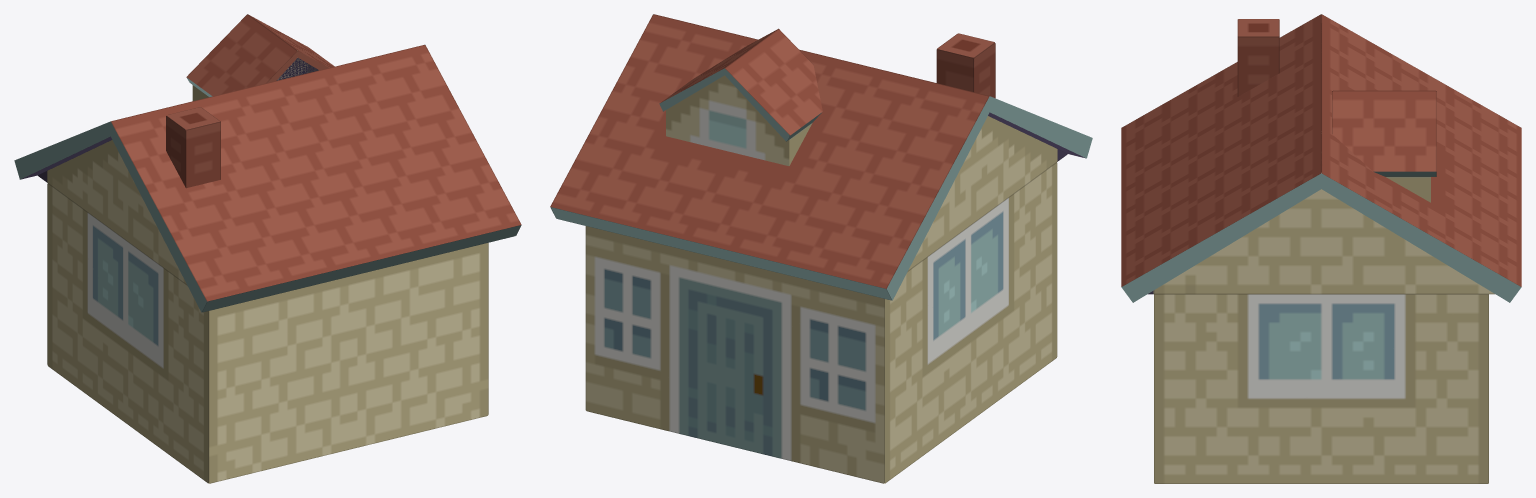
Rendered from seanhouse.fbx.
The picture shows the model from 3 angles, left to right: view 1: azimuth 30°, elevation 25°; view 2: azimuth 150°, elevation 25°; view 3: azimuth 270°, elevation 25°; orthographic projection. The views are drawn at different scales.
Visible parts, largest first — view 1: cuboid, cuboid_2, cuboid_1, cuboid_3; view 2: cuboid, cuboid_2, cuboid_1, cuboid_3; view 3: cuboid_2, cuboid, cuboid_1, cuboid_3.
Boxes of the visible parts, bbox=[...] form: cuboid: bbox=[47, 183, 488, 483]; cuboid_2: bbox=[14, 44, 521, 312]; cuboid_1: bbox=[186, 14, 334, 100]; cuboid_3: bbox=[166, 107, 220, 188]; cuboid: bbox=[585, 162, 1057, 483]; cuboid_2: bbox=[550, 14, 1092, 300]; cuboid_1: bbox=[659, 28, 822, 165]; cuboid_3: bbox=[936, 33, 995, 98]; cuboid_2: bbox=[1121, 14, 1521, 302]; cuboid: bbox=[1154, 173, 1488, 483]; cuboid_1: bbox=[1332, 90, 1436, 202]; cuboid_3: bbox=[1237, 19, 1279, 96].
Bounding box in the file's own units: 28.13 × 27.99 × 29.86.
